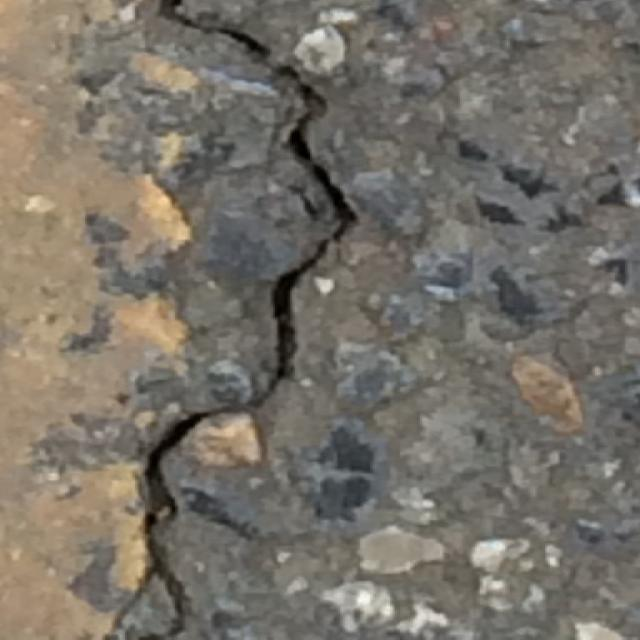Longitudinal: (120, 0, 362, 640)
